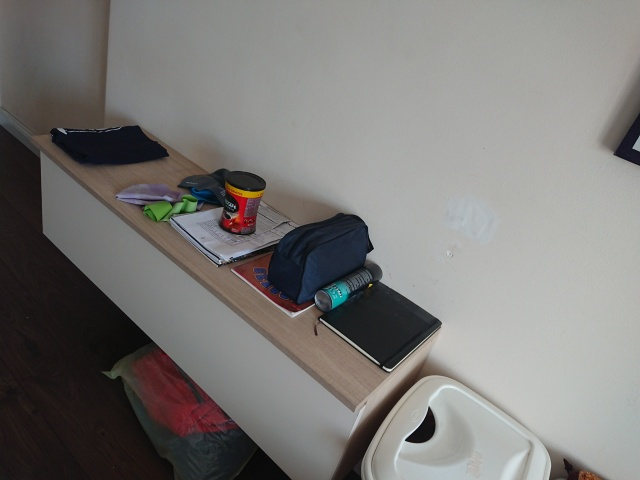Nescafe Classic 225g: (213, 167, 270, 239)
